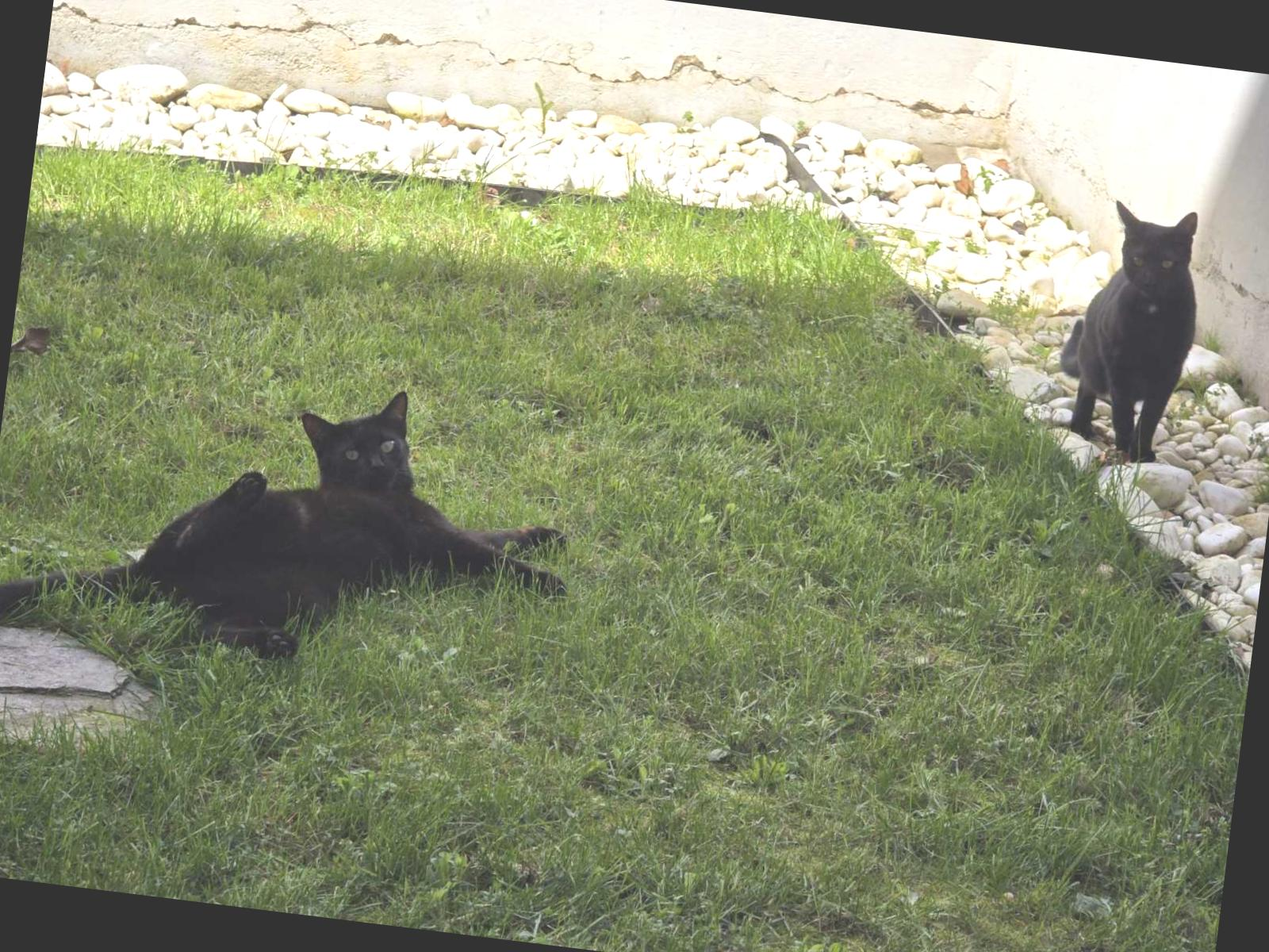macka: (0, 342, 588, 702), (1049, 194, 1209, 470)
